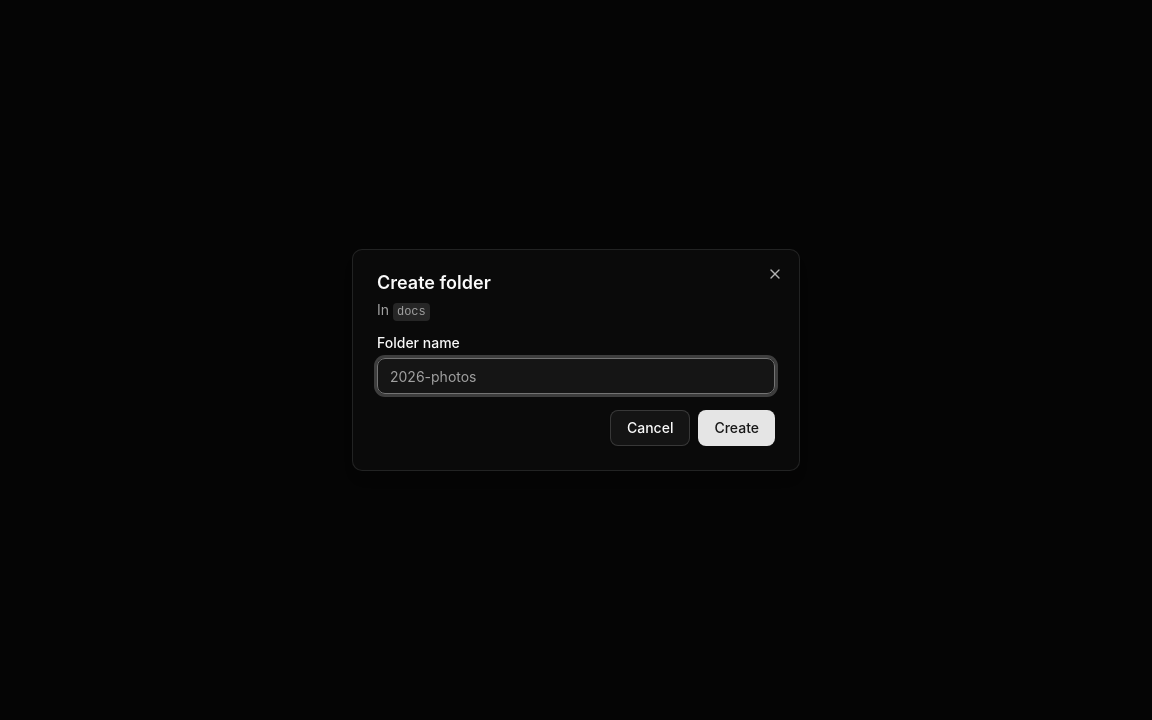
Test: CreateFolderDialog › shows the folder-specific 409 message
The image size is (1152, 720).
Type "reports" into the field labelled "Folder name".
click(576, 376); type("reports")  # box [377,358,775,394]
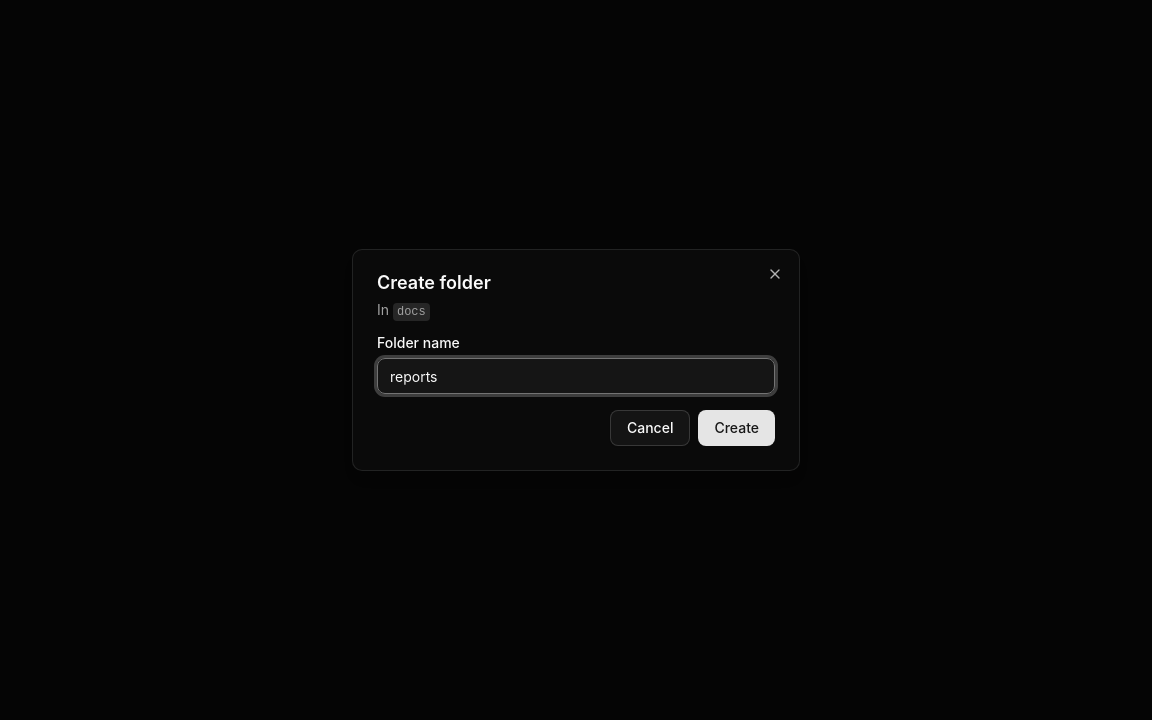
Click the button "Create".
click(737, 428)  # box [698,410,775,446]
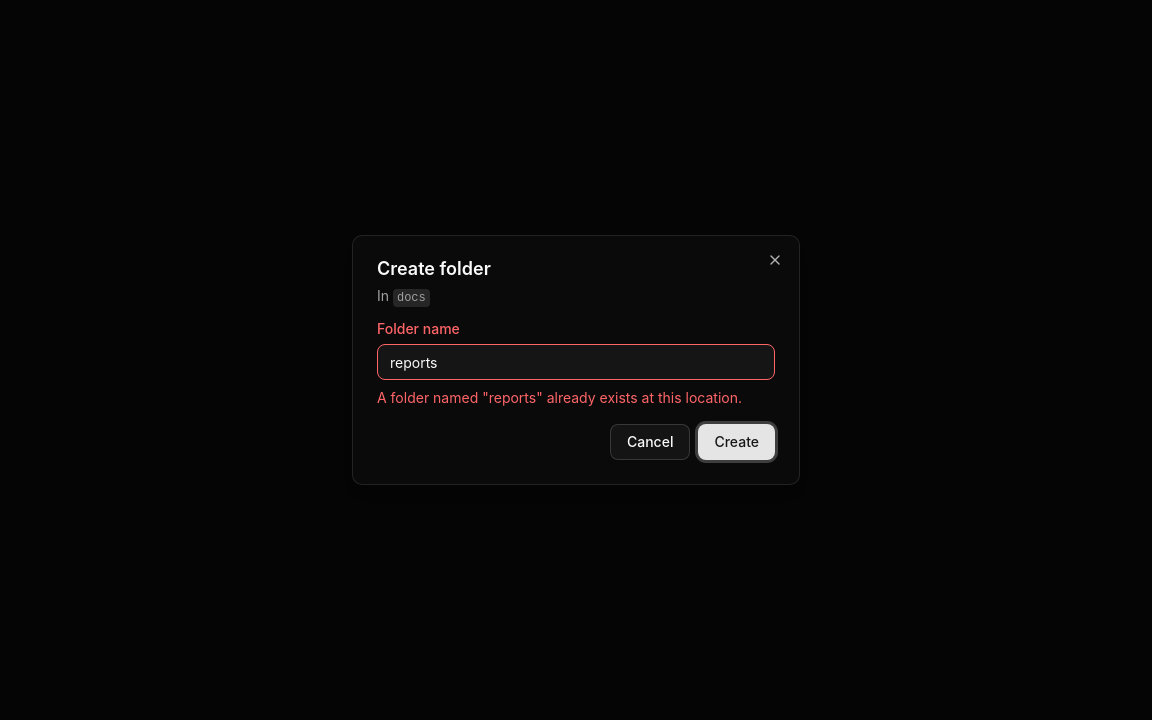
Expected: the text "A folder named \"reports\" already exists at this location." is shown, [377,388,775,408]
